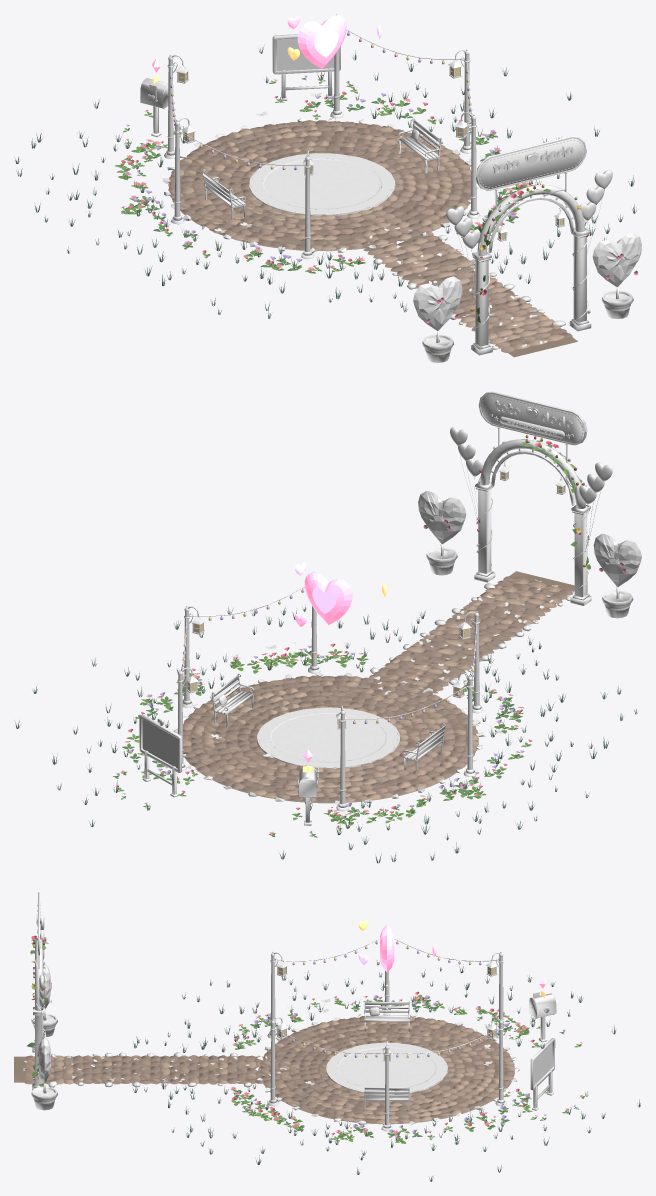
The model's file is zon_gate_lite.glb.
3 renders of one model, top to bottom at view 1: azimuth 30°, elevation 25°; view 2: azimuth 150°, elevation 25°; view 3: azimuth 270°, elevation 25°, orthographic. The views are drawn at different scales.
Visible parts, largest first — view 1: SM_zon_gate_lite_paths_stone_vc_x0_z4, SM_zon_gate_lite_kit_gate_x0_z4, SM_zon_gate_lite_vc_palette_x0_z4, SM_zon_gate_lite_tuft_x0_z4, SCREEN_mosaic__0, ANIM_bld_gate_crystalheart_heart__0, SCREEN_sign_back__0, SM_zon_gate_lite_glow_vc_x0_z4; view 2: SM_zon_gate_lite_paths_stone_vc_x0_z4, SM_zon_gate_lite_kit_gate_x0_z4, SM_zon_gate_lite_vc_palette_x0_z4, SM_zon_gate_lite_tuft_x0_z4, SCREEN_mosaic__0, ANIM_bld_gate_crystalheart_heart__0, SCREEN_sign_front__0, SM_zon_gate_lite_glow_vc_x0_z4; view 3: SM_zon_gate_lite_paths_stone_vc_x0_z4, SM_zon_gate_lite_kit_gate_x0_z4, SM_zon_gate_lite_vc_palette_x0_z4, SM_zon_gate_lite_tuft_x0_z4, SCREEN_mosaic__0, ANIM_bld_gate_crystalheart_heart__0, SM_zon_gate_lite_glow_vc_x0_z4, SCREEN_sign_front__0.
Boxes of the visible parts, left/top/right/bottom form: SM_zon_gate_lite_paths_stone_vc_x0_z4: left=168, top=120, right=577, bottom=357; SM_zon_gate_lite_kit_gate_x0_z4: left=140, top=14, right=641, bottom=362; SM_zon_gate_lite_vc_palette_x0_z4: left=115, top=74, right=637, bottom=323; SM_zon_gate_lite_tuft_x0_z4: left=14, top=47, right=636, bottom=318; SCREEN_mosaic__0: left=251, top=154, right=392, bottom=213; ANIM_bld_gate_crystalheart_heart__0: left=297, top=15, right=346, bottom=68; SCREEN_sign_back__0: left=277, top=39, right=334, bottom=70; SM_zon_gate_lite_glow_vc_x0_z4: left=170, top=32, right=563, bottom=239; SM_zon_gate_lite_paths_stone_vc_x0_z4: left=183, top=571, right=574, bottom=803; SM_zon_gate_lite_kit_gate_x0_z4: left=139, top=391, right=641, bottom=825; SM_zon_gate_lite_vc_palette_x0_z4: left=113, top=435, right=625, bottom=837; SM_zon_gate_lite_tuft_x0_z4: left=14, top=605, right=637, bottom=863; SCREEN_mosaic__0: left=259, top=708, right=397, bottom=766; ANIM_bld_gate_crystalheart_heart__0: left=304, top=572, right=352, bottom=625; SCREEN_sign_front__0: left=143, top=719, right=177, bottom=767; SM_zon_gate_lite_glow_vc_x0_z4: left=181, top=472, right=564, bottom=727; SM_zon_gate_lite_paths_stone_vc_x0_z4: left=14, top=1015, right=514, bottom=1124; SM_zon_gate_lite_kit_gate_x0_z4: left=23, top=892, right=556, bottom=1131; SM_zon_gate_lite_vc_palette_x0_z4: left=27, top=935, right=584, bottom=1143; SM_zon_gate_lite_tuft_x0_z4: left=132, top=960, right=640, bottom=1181; SCREEN_mosaic__0: left=328, top=1043, right=446, bottom=1091; ANIM_bld_gate_crystalheart_heart__0: left=380, top=924, right=394, bottom=972; SM_zon_gate_lite_glow_vc_x0_z4: left=278, top=941, right=495, bottom=1060; SCREEN_sign_front__0: left=534, top=1043, right=552, bottom=1084.
Size of the model in its own units: 18.6 by 6.44 by 22.55.
